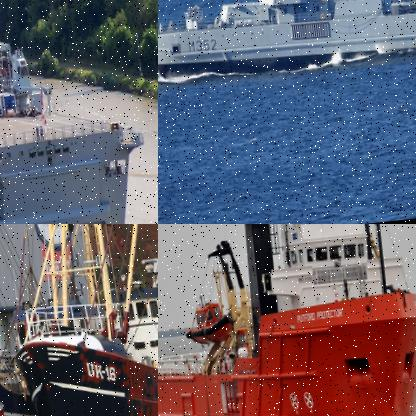Fishing Boat: (0, 224, 157, 415), (0, 224, 57, 415)
Merchant Ship: (158, 224, 415, 415)
Military Ship: (0, 0, 157, 223), (158, 0, 415, 85)
